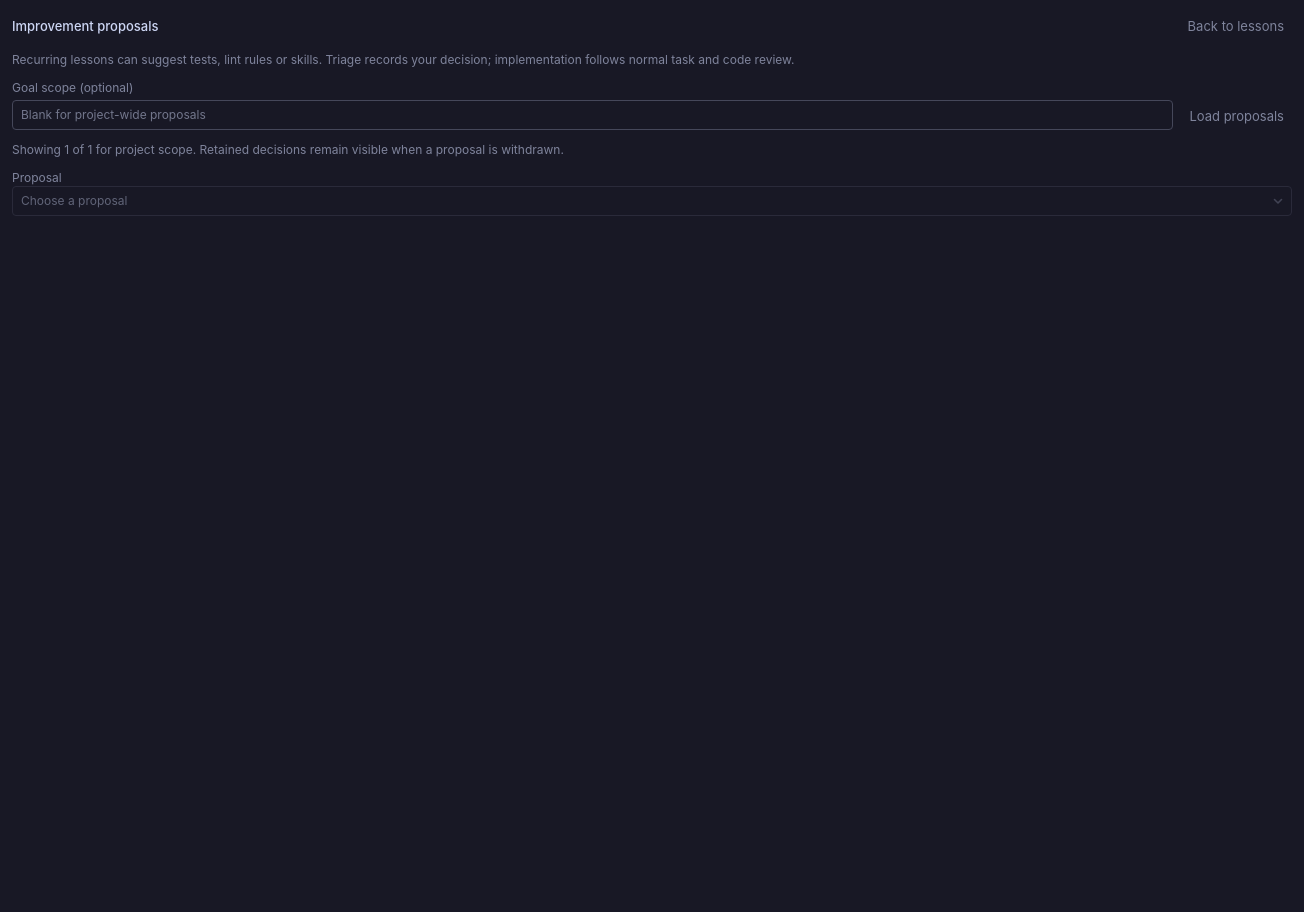
Test case: KnowledgeImprovements › exports only the inspected revision and holds stale export errors
Select "Dialog focus · proposed" in the dropdown labelled "Proposal" at (652, 201), box [12,186,1292,216]
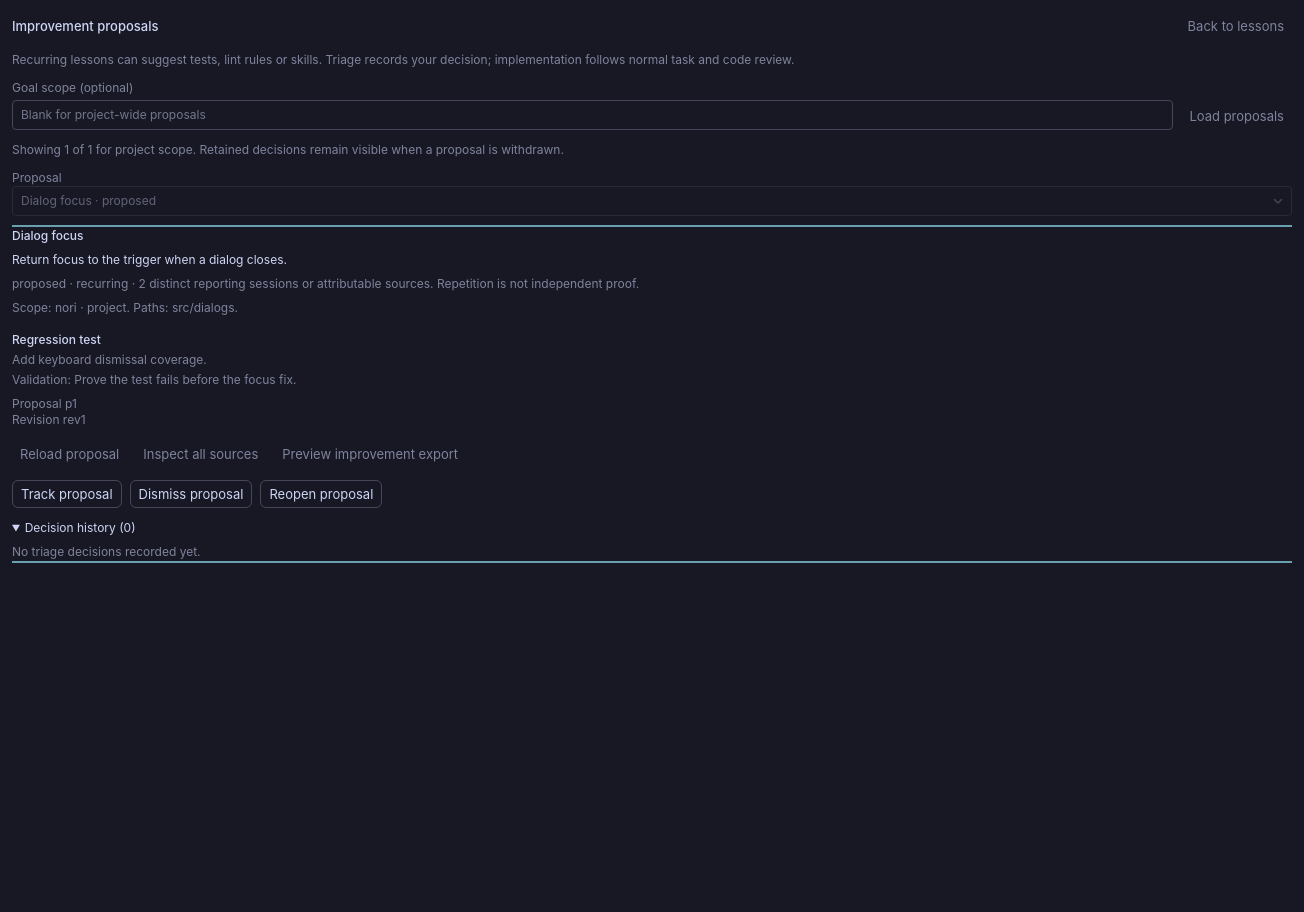
Expected: the button "Reload proposal" is shown, [12,440,127,468]
Click the button "Preview improvement export".
click(370, 454)  # box [274,440,466,468]
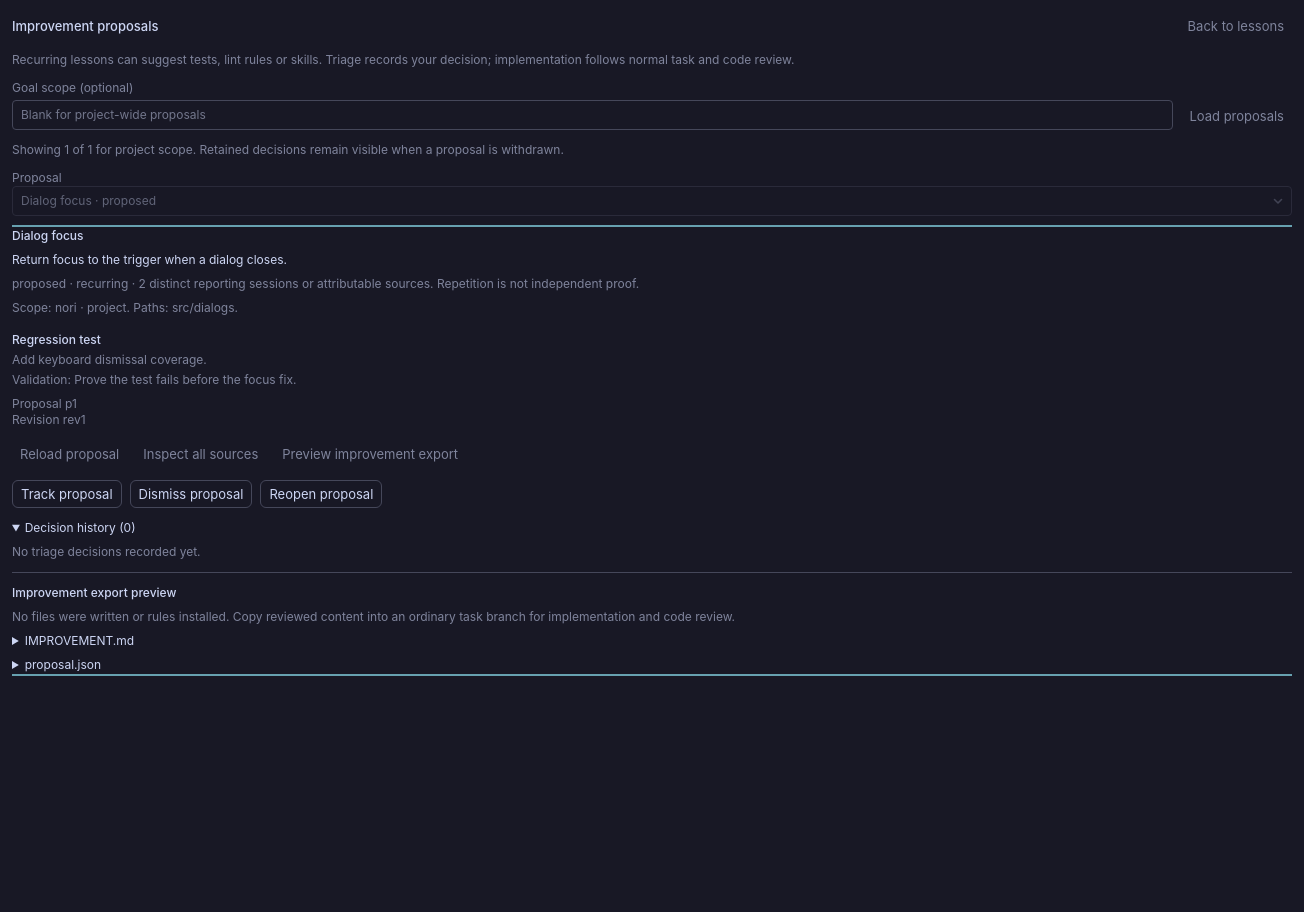
Expected: the element "Improvement export preview" is shown, [12,572,1292,673]
Expected: the text "No files were written" is shown, [12,609,735,624]
Click the button "Preview improvement export".
click(370, 454)  # box [274,440,466,468]
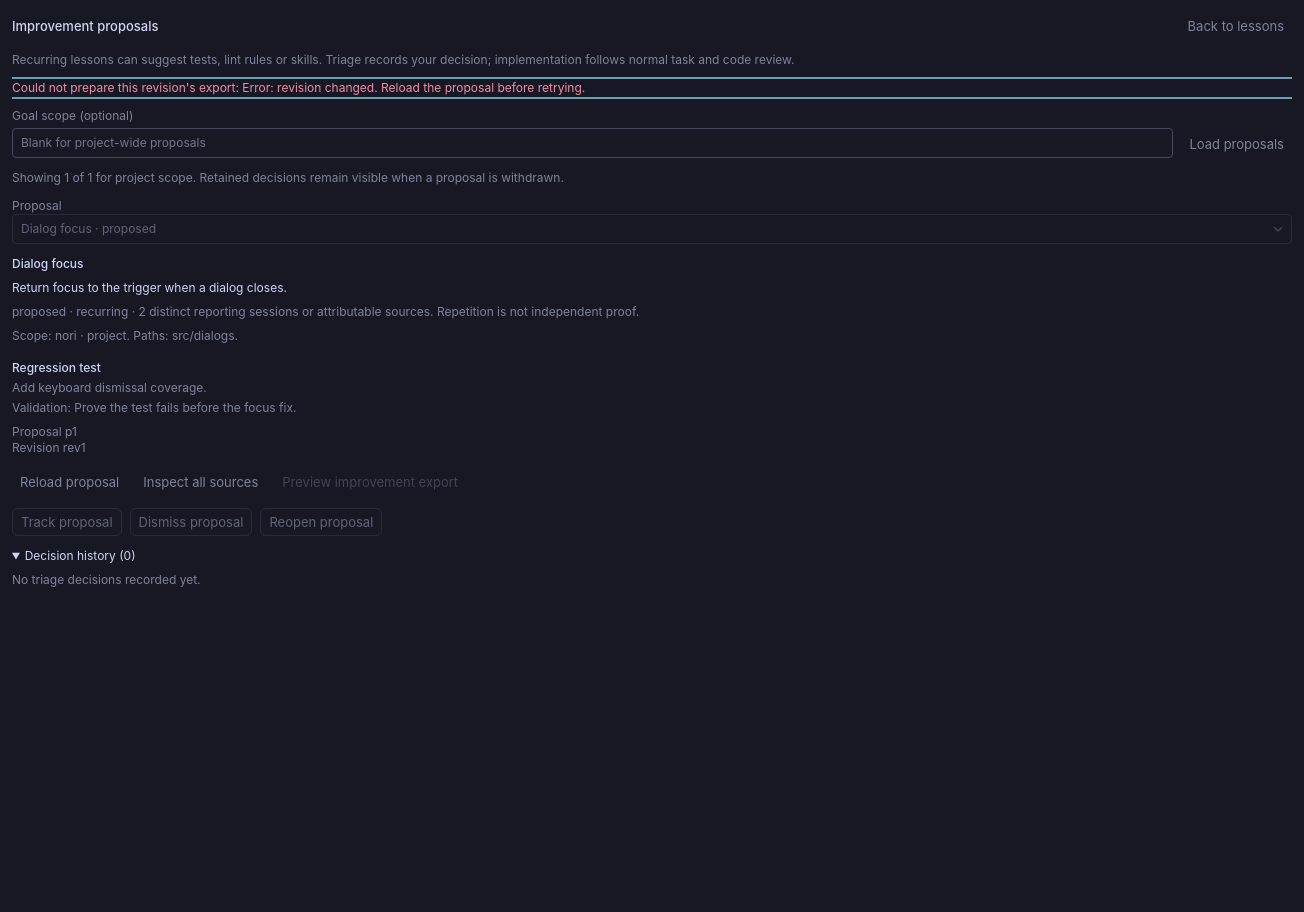
Expected: the message is shown, [12,80,585,95]
Expected: the heading "Improvement export preview" is gone
Expected: the button "Track proposal" is disabled, [12,508,122,536]
